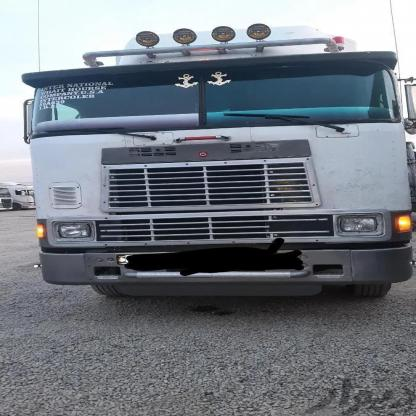Truck: (15, 40, 416, 292)
